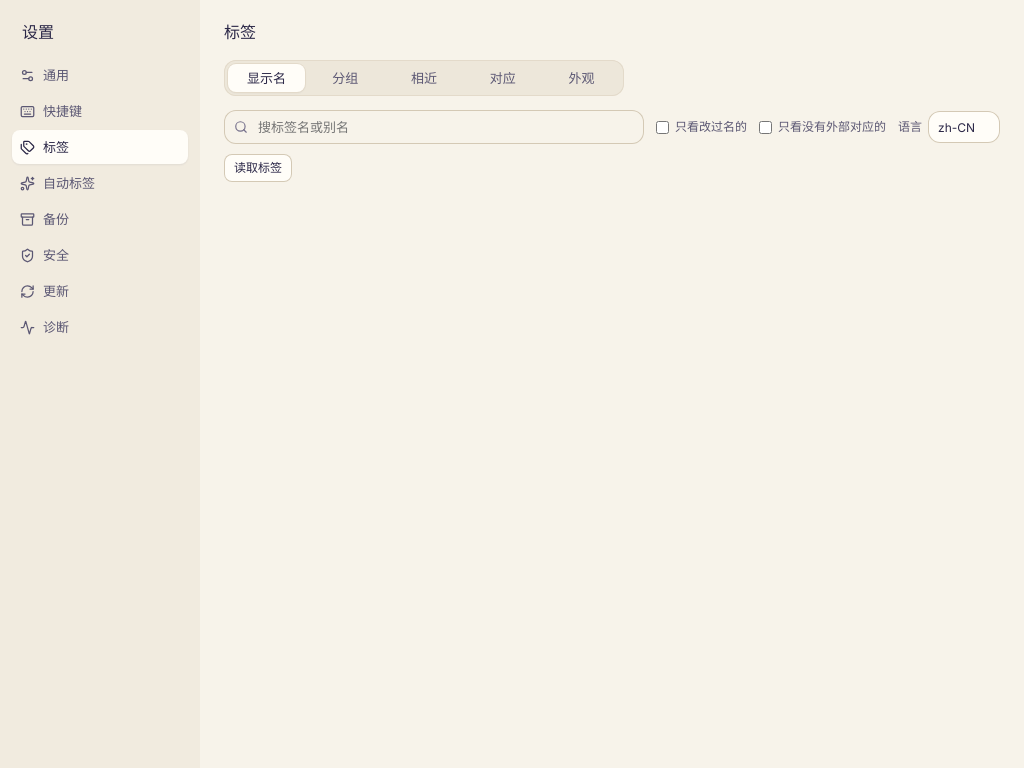
Test: 设置：标签外观 › “恢复默认”回到 0.80 / 0.40
Click the button "外观".
click(582, 78)  # box [543, 64, 620, 92]
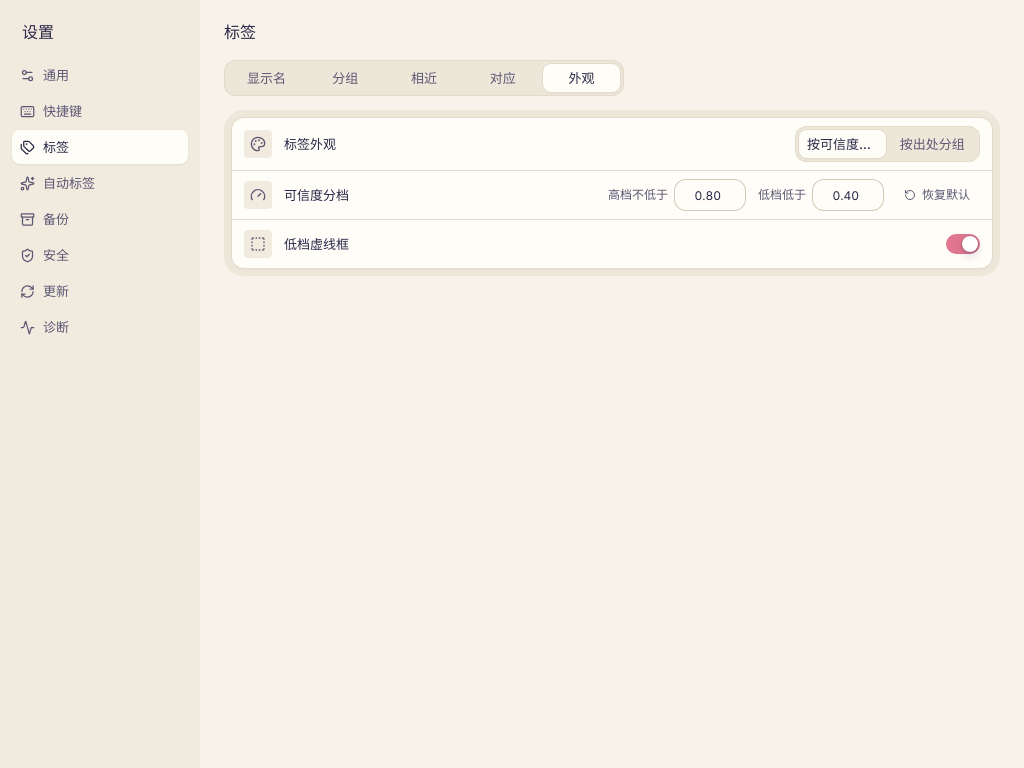
Replace the text in the number field named "高档下限" with "0.9" at (710,195), box [674, 179, 746, 211]
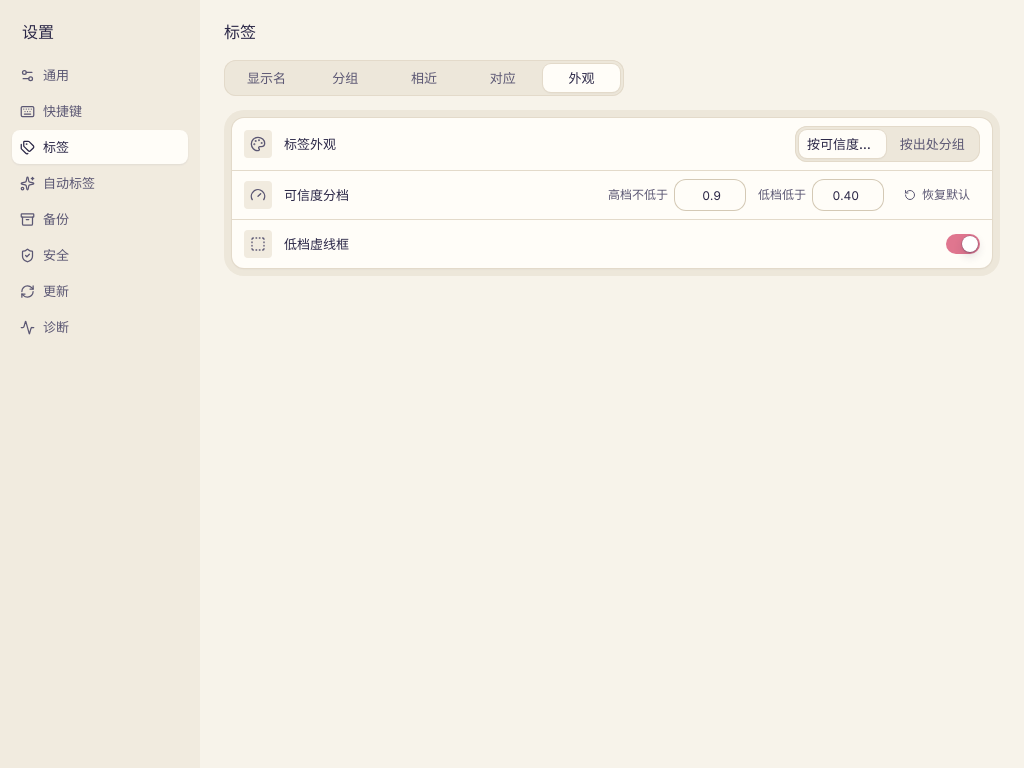
Replace the text in the number field named "低档上限" with "0.5" at (848,195), box [812, 179, 884, 211]
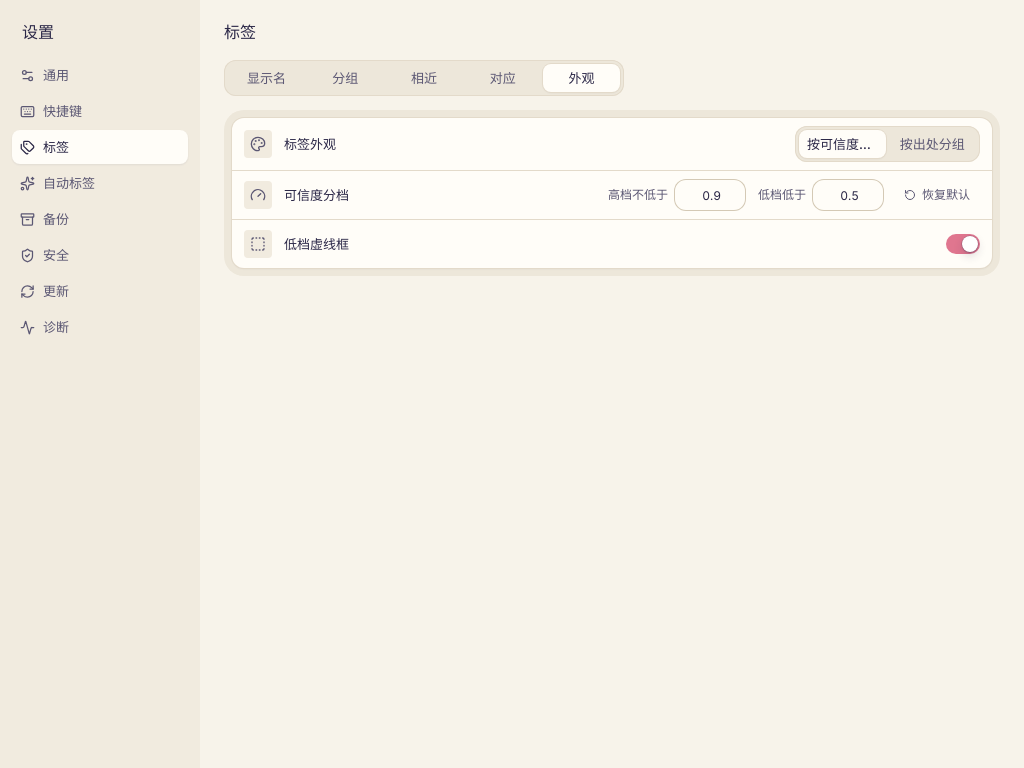
Click the button "恢复默认".
click(938, 195)  # box [896, 181, 980, 209]
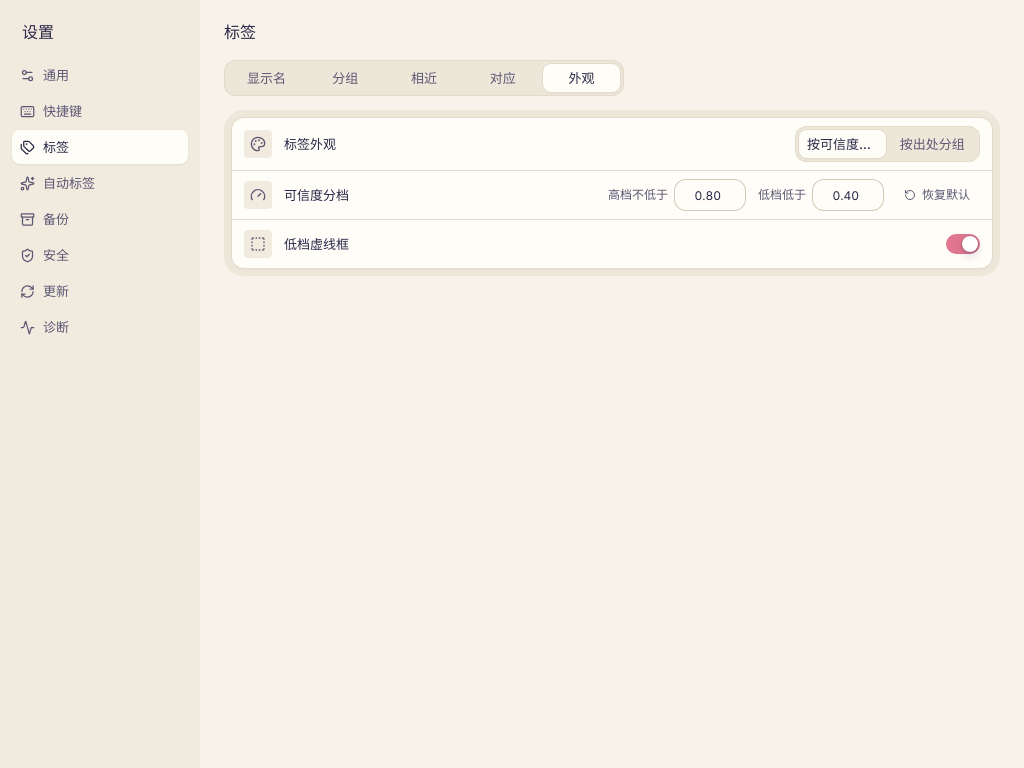
Result: the number field named "高档下限" holds "0.80" at [674, 179, 746, 211]
Result: the number field named "低档上限" holds "0.40" at [812, 179, 884, 211]
